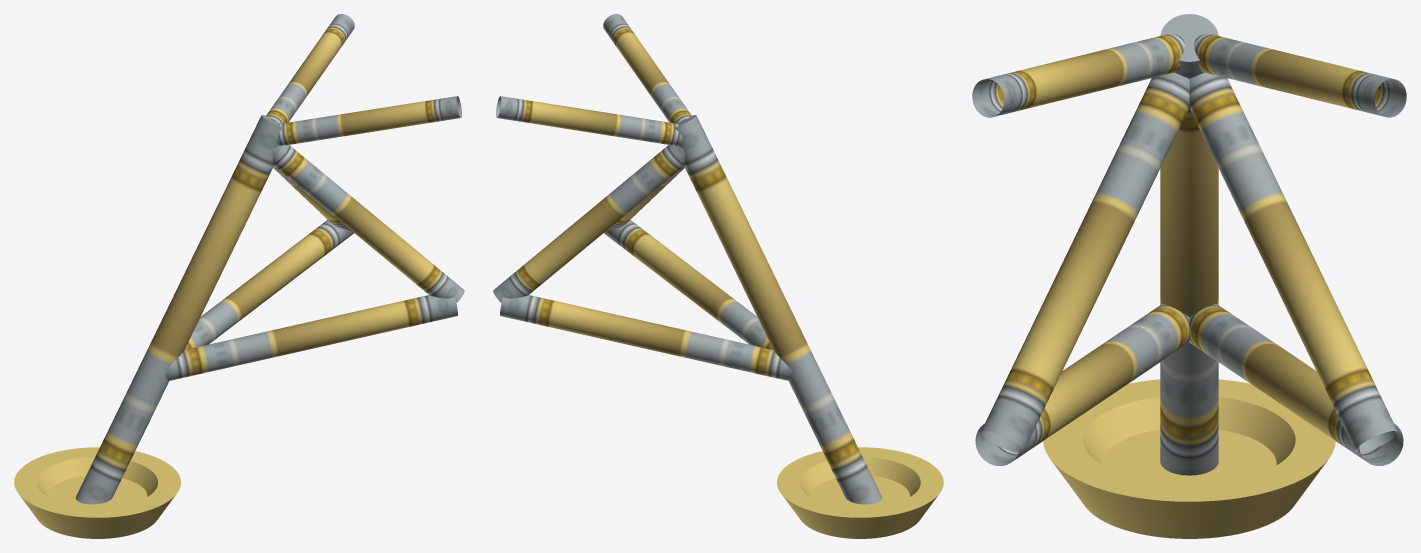
File: apollol2.obj
3 views of the same model, side by side, from view 1: azimuth 30°, elevation 25°; view 2: azimuth 150°, elevation 25°; view 3: azimuth 270°, elevation 25° (orthographic). The views are drawn at different scales.
Parts seen in each view (by area): view 1: ColobotMesh_1_ColobotMesh_; view 2: ColobotMesh_1_ColobotMesh_; view 3: ColobotMesh_1_ColobotMesh_.
Boxes of the visible parts, x1,y1,x2,y2 form: ColobotMesh_1_ColobotMesh_: (14,14,464,538); ColobotMesh_1_ColobotMesh_: (493,14,943,538); ColobotMesh_1_ColobotMesh_: (972,14,1406,538).
Size of the model in its own units: 10.68 by 10.13 by 5.93.
